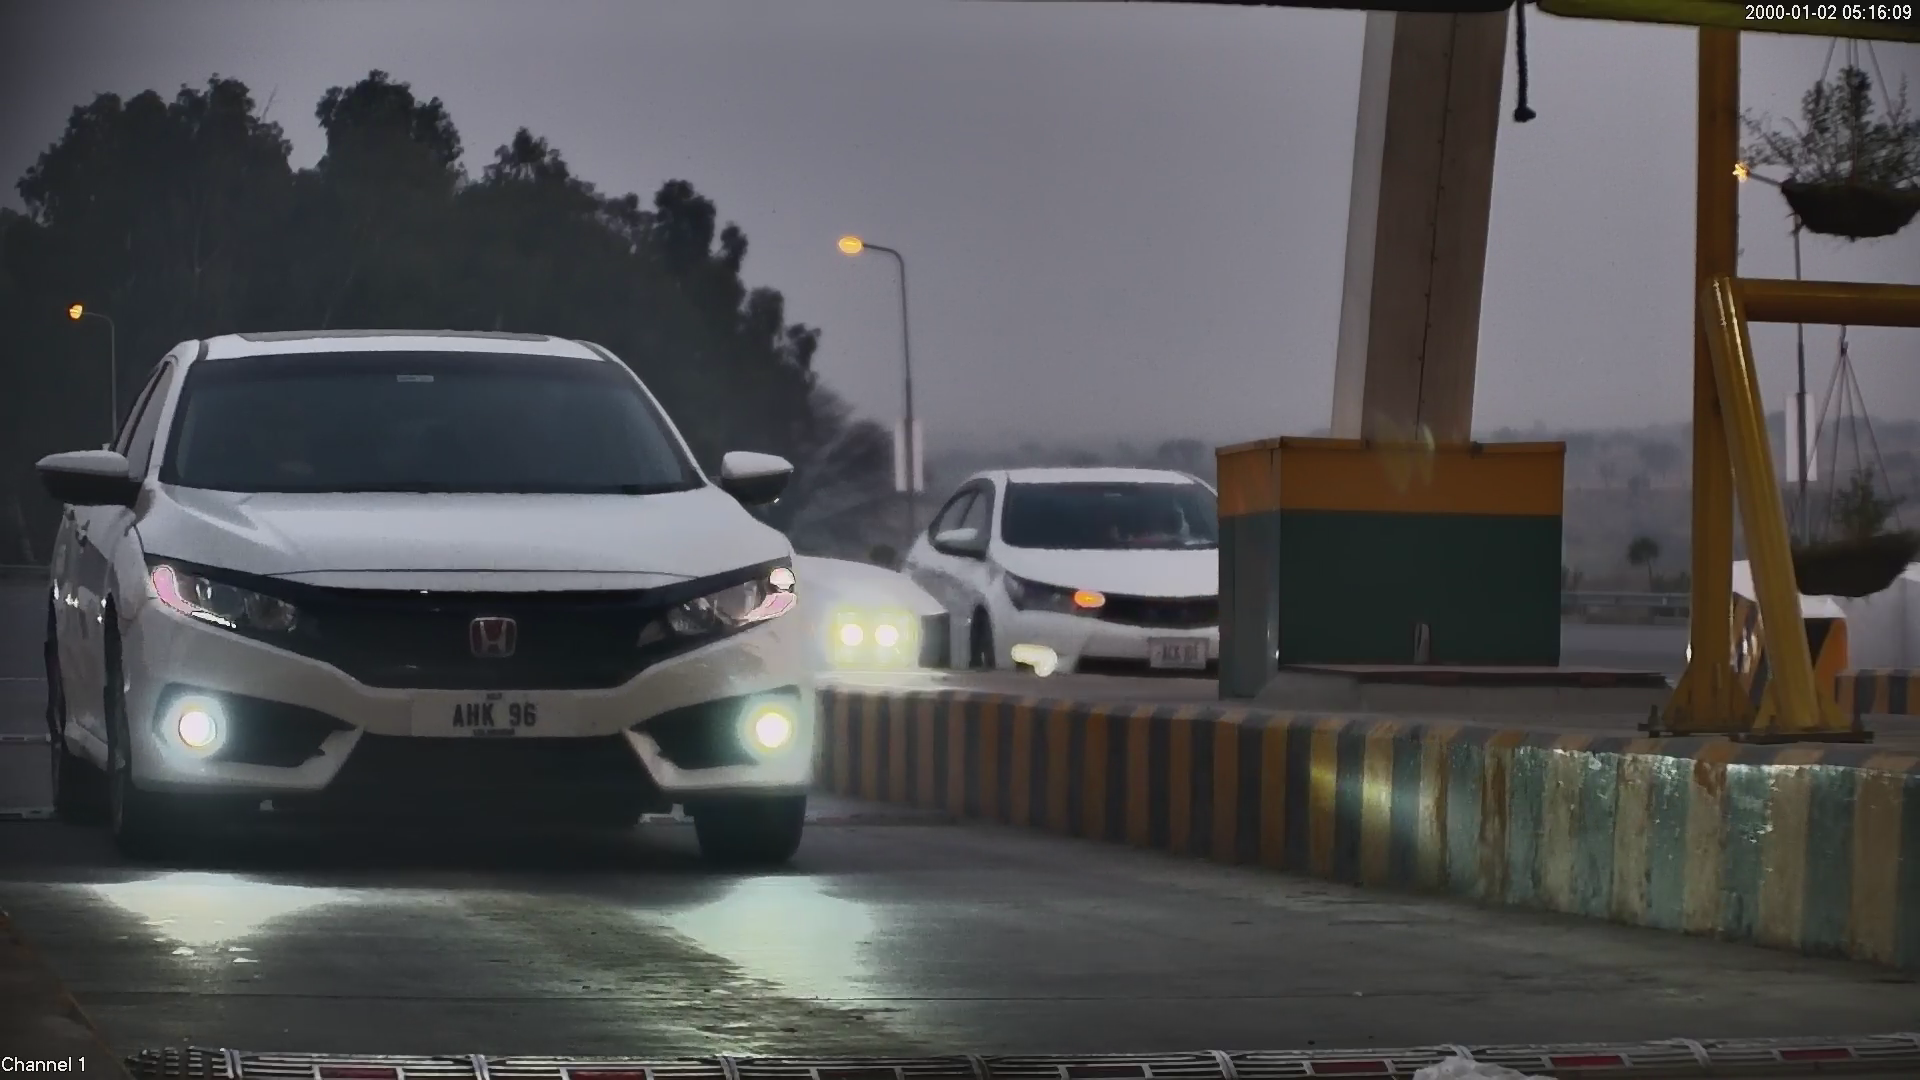Number_Plate: (408, 681, 577, 746)
